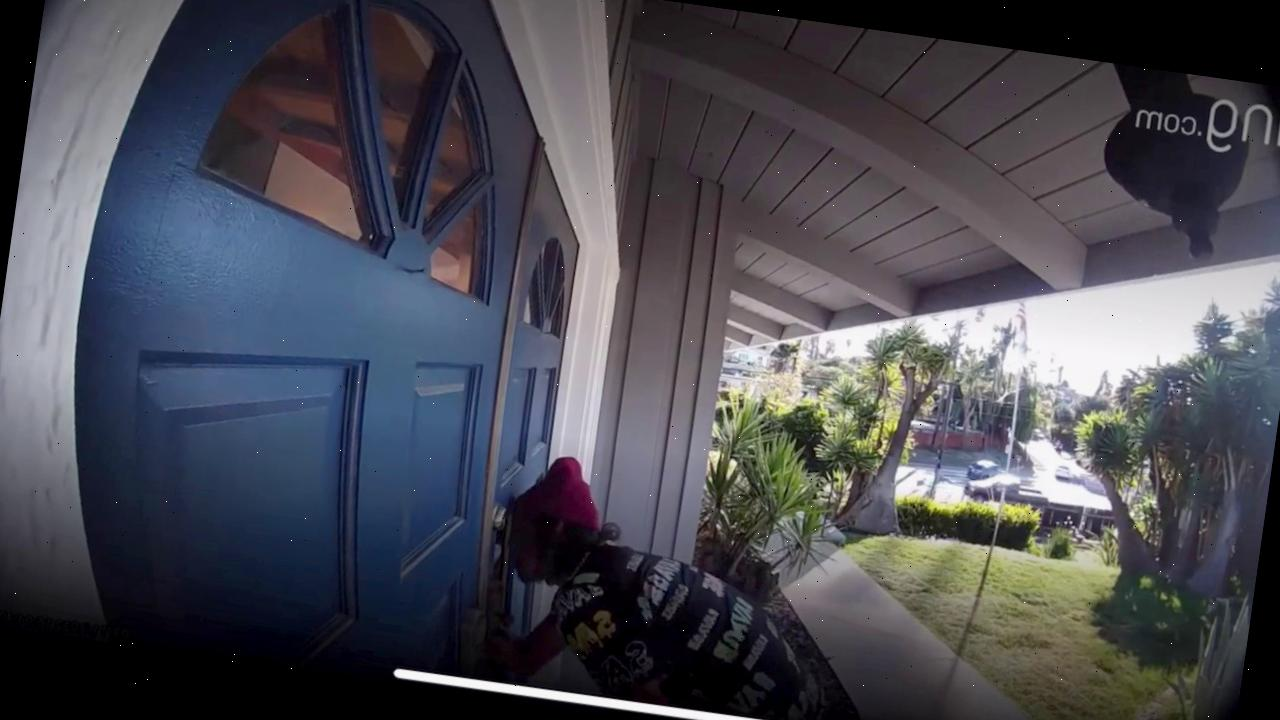suspicion: (437, 427, 871, 720)
